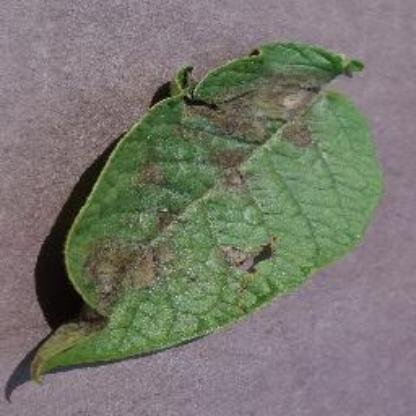Late-Blight: (31, 40, 385, 386)
